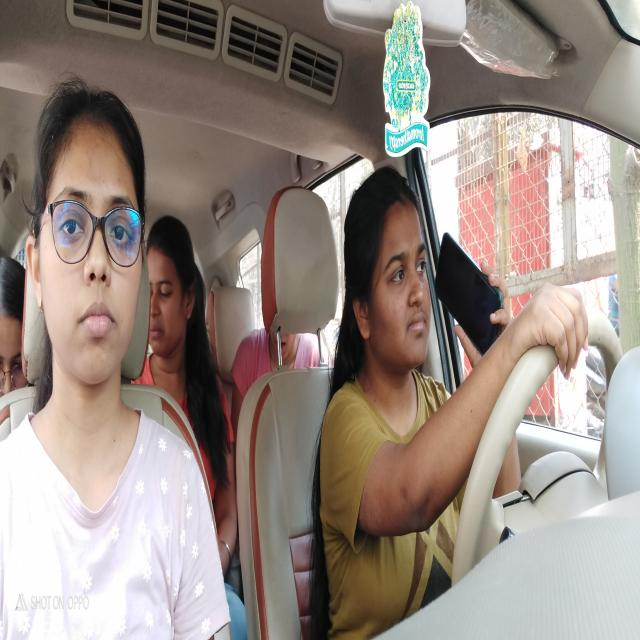mobile: (433, 225, 510, 368)
person: (25, 80, 146, 395), (340, 165, 436, 368), (147, 212, 204, 356), (1, 250, 36, 406), (270, 324, 302, 371)
